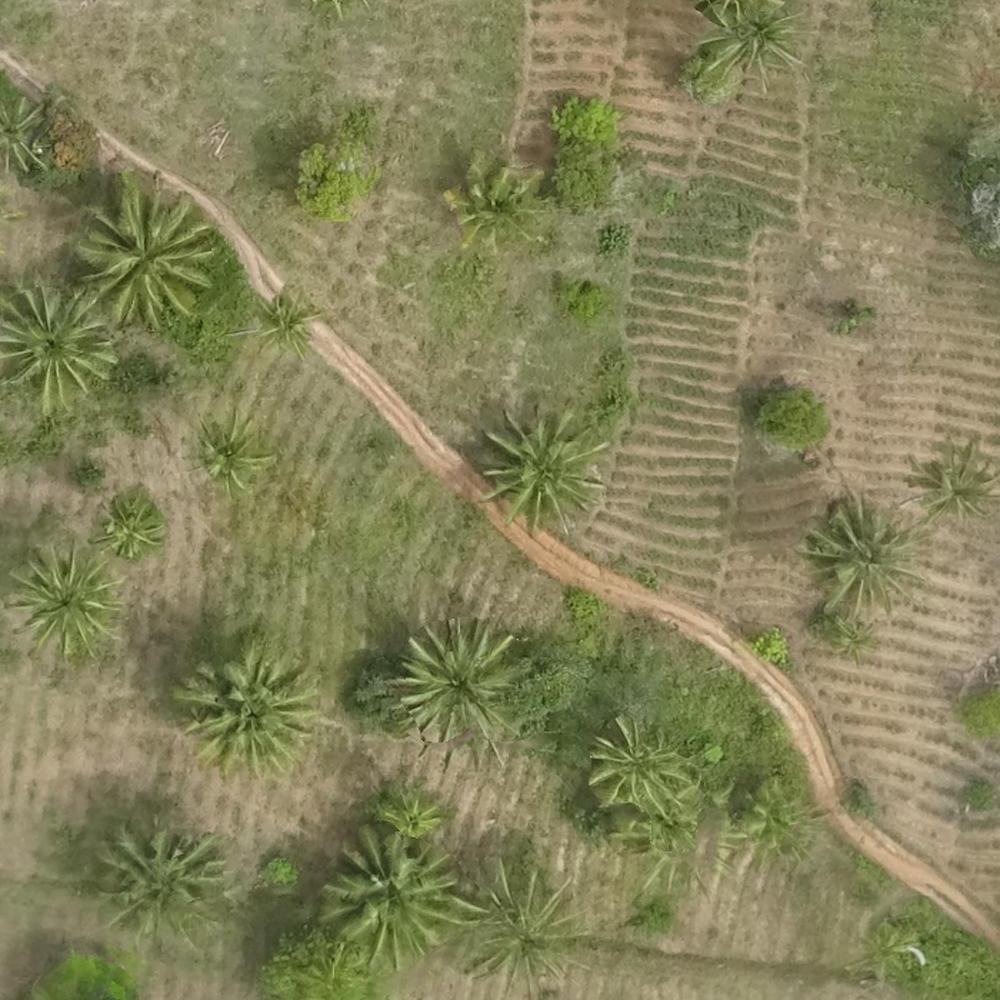Palm: (79, 190, 208, 325), (318, 835, 452, 959), (96, 817, 217, 948), (452, 863, 578, 986), (185, 644, 307, 771), (399, 622, 519, 740), (4, 283, 117, 408), (483, 406, 607, 519), (10, 543, 126, 657), (692, 2, 814, 91), (811, 505, 915, 608), (593, 721, 686, 809), (450, 162, 540, 248), (186, 419, 266, 500), (910, 444, 995, 518), (246, 288, 314, 351), (91, 499, 162, 557)
